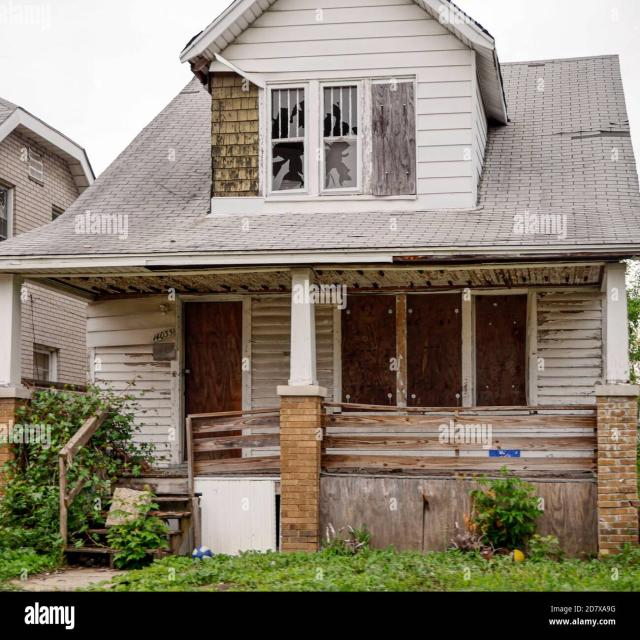House: (5, 0, 640, 558)
